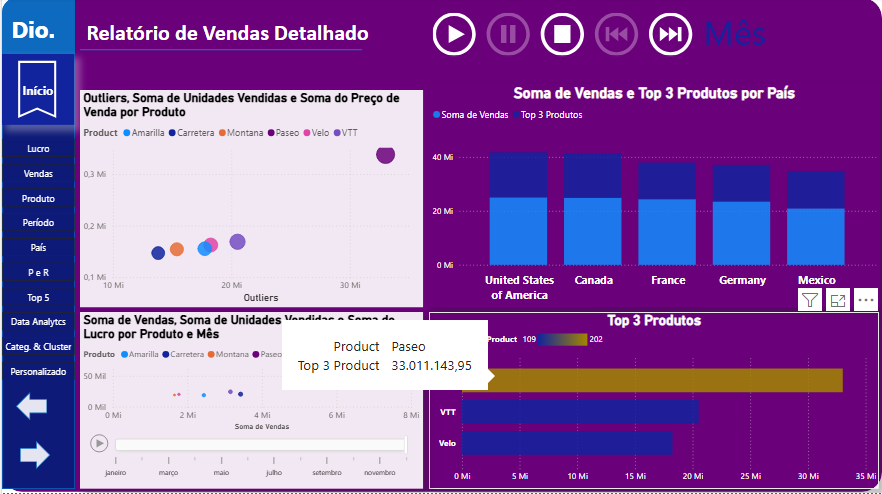

The page's visual inventory and layout, read from the dashboard file:
{"tool":"powerbi","page":{"name":"País","canvas":[1280,720],"ordinal":5},"visuals":[{"type":"shape","box":[0,0,106.3,714.1],"z":0,"group":"g4"},{"type":"shape","title":"Fundo","box":[0,0,1280,719],"z":0},{"type":"shape","box":[106.5,0,1173.5,83.3],"z":0,"group":"g1"},{"type":"shape","box":[108.8,138.1,410.6,13.5],"z":0,"group":"g2"},{"type":"shape","box":[111.3,148.3,434.9,74.2],"z":0,"group":"g3"},{"type":"shape","box":[0,0,106,82.6],"z":1000,"group":"g4"},{"type":"group","id":"g1","title":"Título","box":[106.5,0,1173.5,83.3],"z":1000},{"type":"textbox","box":[113.4,16.2,393.5,67.1],"z":1000,"group":"g1"},{"type":"textbox","box":[113.7,96.4,454.9,57.8],"z":1000,"group":"g2"},{"type":"advancedSlicerVisual","fields":{"Values":["financials.Date.Variation.Hierarquia de datas.Ano"]},"box":[125.1,154.8,410.1,61.3],"z":1000,"group":"g3"},{"type":"textbox","title":"Logo Dio","box":[9.2,22,89.7,53.1],"z":2000,"group":"g4"},{"type":"group","id":"g2","title":"Subtítulo","box":[108.8,96.4,459.8,57.8],"z":2000},{"type":"group","id":"g3","title":"Ano","box":[111.3,148.3,434.9,74.2],"z":3000},{"type":"group","id":"g4","title":"Dio","box":[0,0,106.3,714.1],"z":4000},{"type":"card","fields":{"Values":["Sum(financials.Units Sold)"]},"box":[549,148.5,245.3,72.6],"z":5000,"group":"g5"},{"type":"shape","title":"9 Forma","box":[25.8,643.8,43.9,40.9],"z":5000},{"type":"card","fields":{"Values":["Sum(financials.Profit)"]},"box":[1037.9,149.4,235.3,72.6],"z":6000,"group":"g5"},{"type":"shape","title":"9 Forma","box":[20.6,573,45.3,41.2],"z":6000},{"type":"sankey02300D1BE6F5427989F3DE31CCA9E0F32020","fields":{"Source":["financials.Country"],"Destination":["financials.Segment"],"Weight":["Sum(financials.Sales)"]},"box":[111.8,233.6,1161.5,482.3],"z":7000},{"type":"group","id":"g5","title":"Grupo 1","box":[549,148.5,724.3,71.8],"z":8000},{"type":"card","fields":{"Values":["Sum(financials.Sales)"]},"box":[796,148.5,238.7,72.6],"z":8000,"group":"g5"},{"type":"actionButton","box":[0,82,104.6,102.9],"z":9000},{"type":"pageNavigator","box":[0,205.8,106.4,359.2],"z":10000}]}

Visuals, with their boxes on the page's 1280x720 design canvas (x1, y1, x2, y2). These are canvas units, not pixel positions in the 882x494 screenshot, which may show the page scaled, cropped or inside an application window:
shape: x1=0 y1=0 x2=106 y2=714
"Fundo" shape: x1=0 y1=0 x2=1280 y2=719
shape: x1=106 y1=0 x2=1280 y2=83
shape: x1=109 y1=138 x2=519 y2=152
shape: x1=111 y1=148 x2=546 y2=222
shape: x1=0 y1=0 x2=106 y2=83
"Título" group: x1=106 y1=0 x2=1280 y2=83
textbox: x1=113 y1=16 x2=507 y2=83
textbox: x1=114 y1=96 x2=569 y2=154
advancedSlicerVisual - financials.Date.Variation.Hierarquia de datas.Ano: x1=125 y1=155 x2=535 y2=216
"Logo Dio" textbox: x1=9 y1=22 x2=99 y2=75
"Subtítulo" group: x1=109 y1=96 x2=569 y2=154
"Ano" group: x1=111 y1=148 x2=546 y2=222
"Dio" group: x1=0 y1=0 x2=106 y2=714
card - Sum(financials.Units Sold): x1=549 y1=148 x2=794 y2=221
"9 Forma" shape: x1=26 y1=644 x2=70 y2=685
card - Sum(financials.Profit): x1=1038 y1=149 x2=1273 y2=222
"9 Forma" shape: x1=21 y1=573 x2=66 y2=614
sankey02300D1BE6F5427989F3DE31CCA9E0F32020 - financials.Country x financials.Segment: x1=112 y1=234 x2=1273 y2=716
"Grupo 1" group: x1=549 y1=148 x2=1273 y2=220
card - Sum(financials.Sales): x1=796 y1=148 x2=1035 y2=221
actionButton: x1=0 y1=82 x2=105 y2=185
pageNavigator: x1=0 y1=206 x2=106 y2=565
